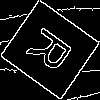R: (24, 25, 82, 80)
